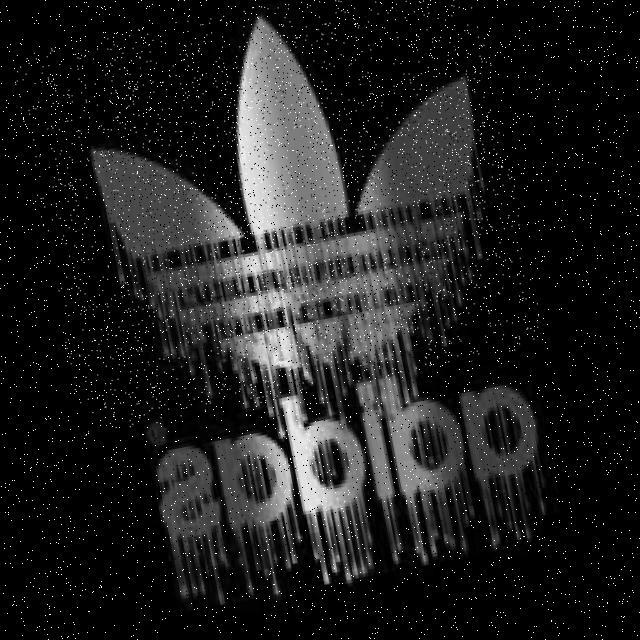Adidas: (9, 0, 546, 437)
